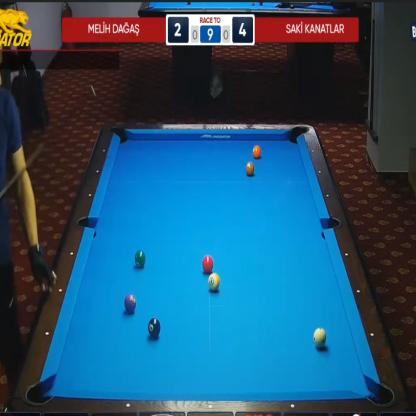Ball: (148, 318, 161, 338), (314, 327, 326, 348), (124, 293, 136, 313), (134, 250, 146, 268), (208, 273, 220, 291), (202, 256, 214, 272), (245, 162, 254, 176), (252, 146, 261, 159)
